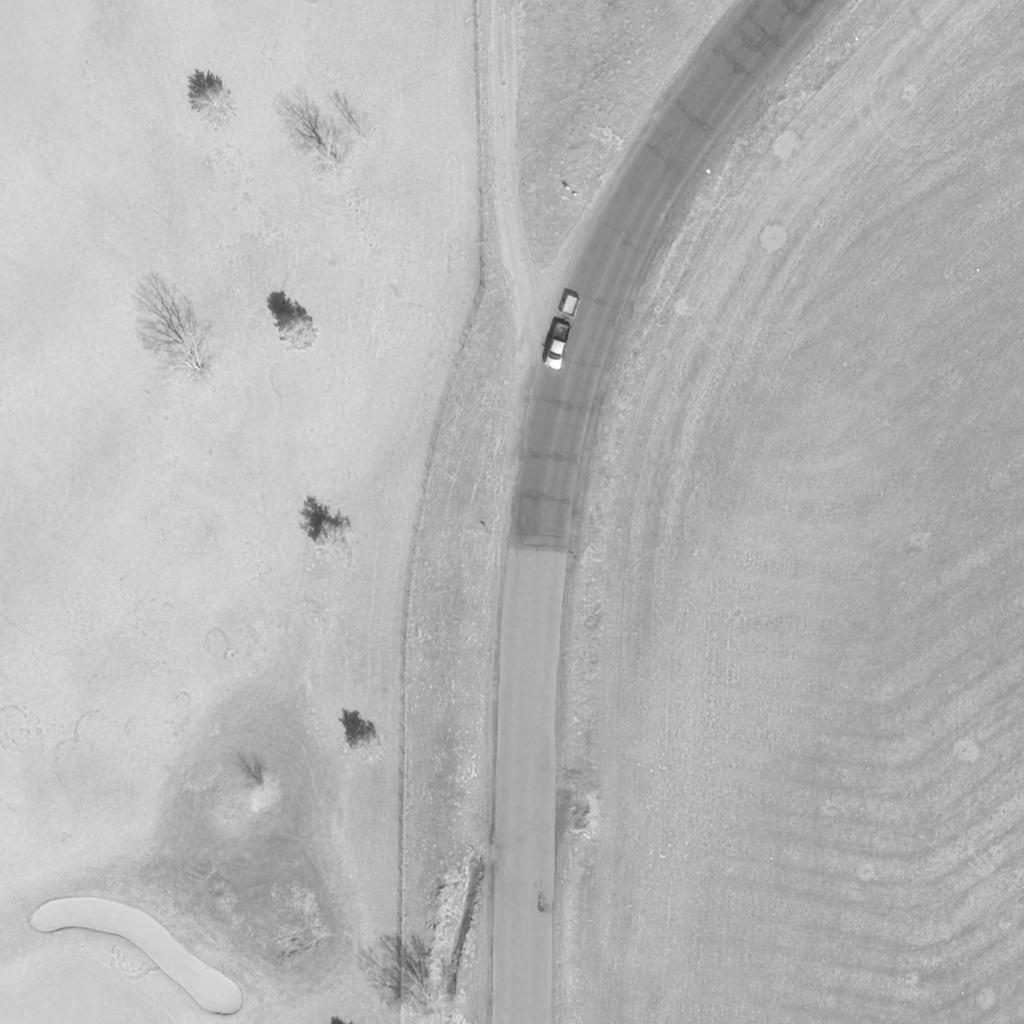vehicle: (545, 324, 573, 370)
